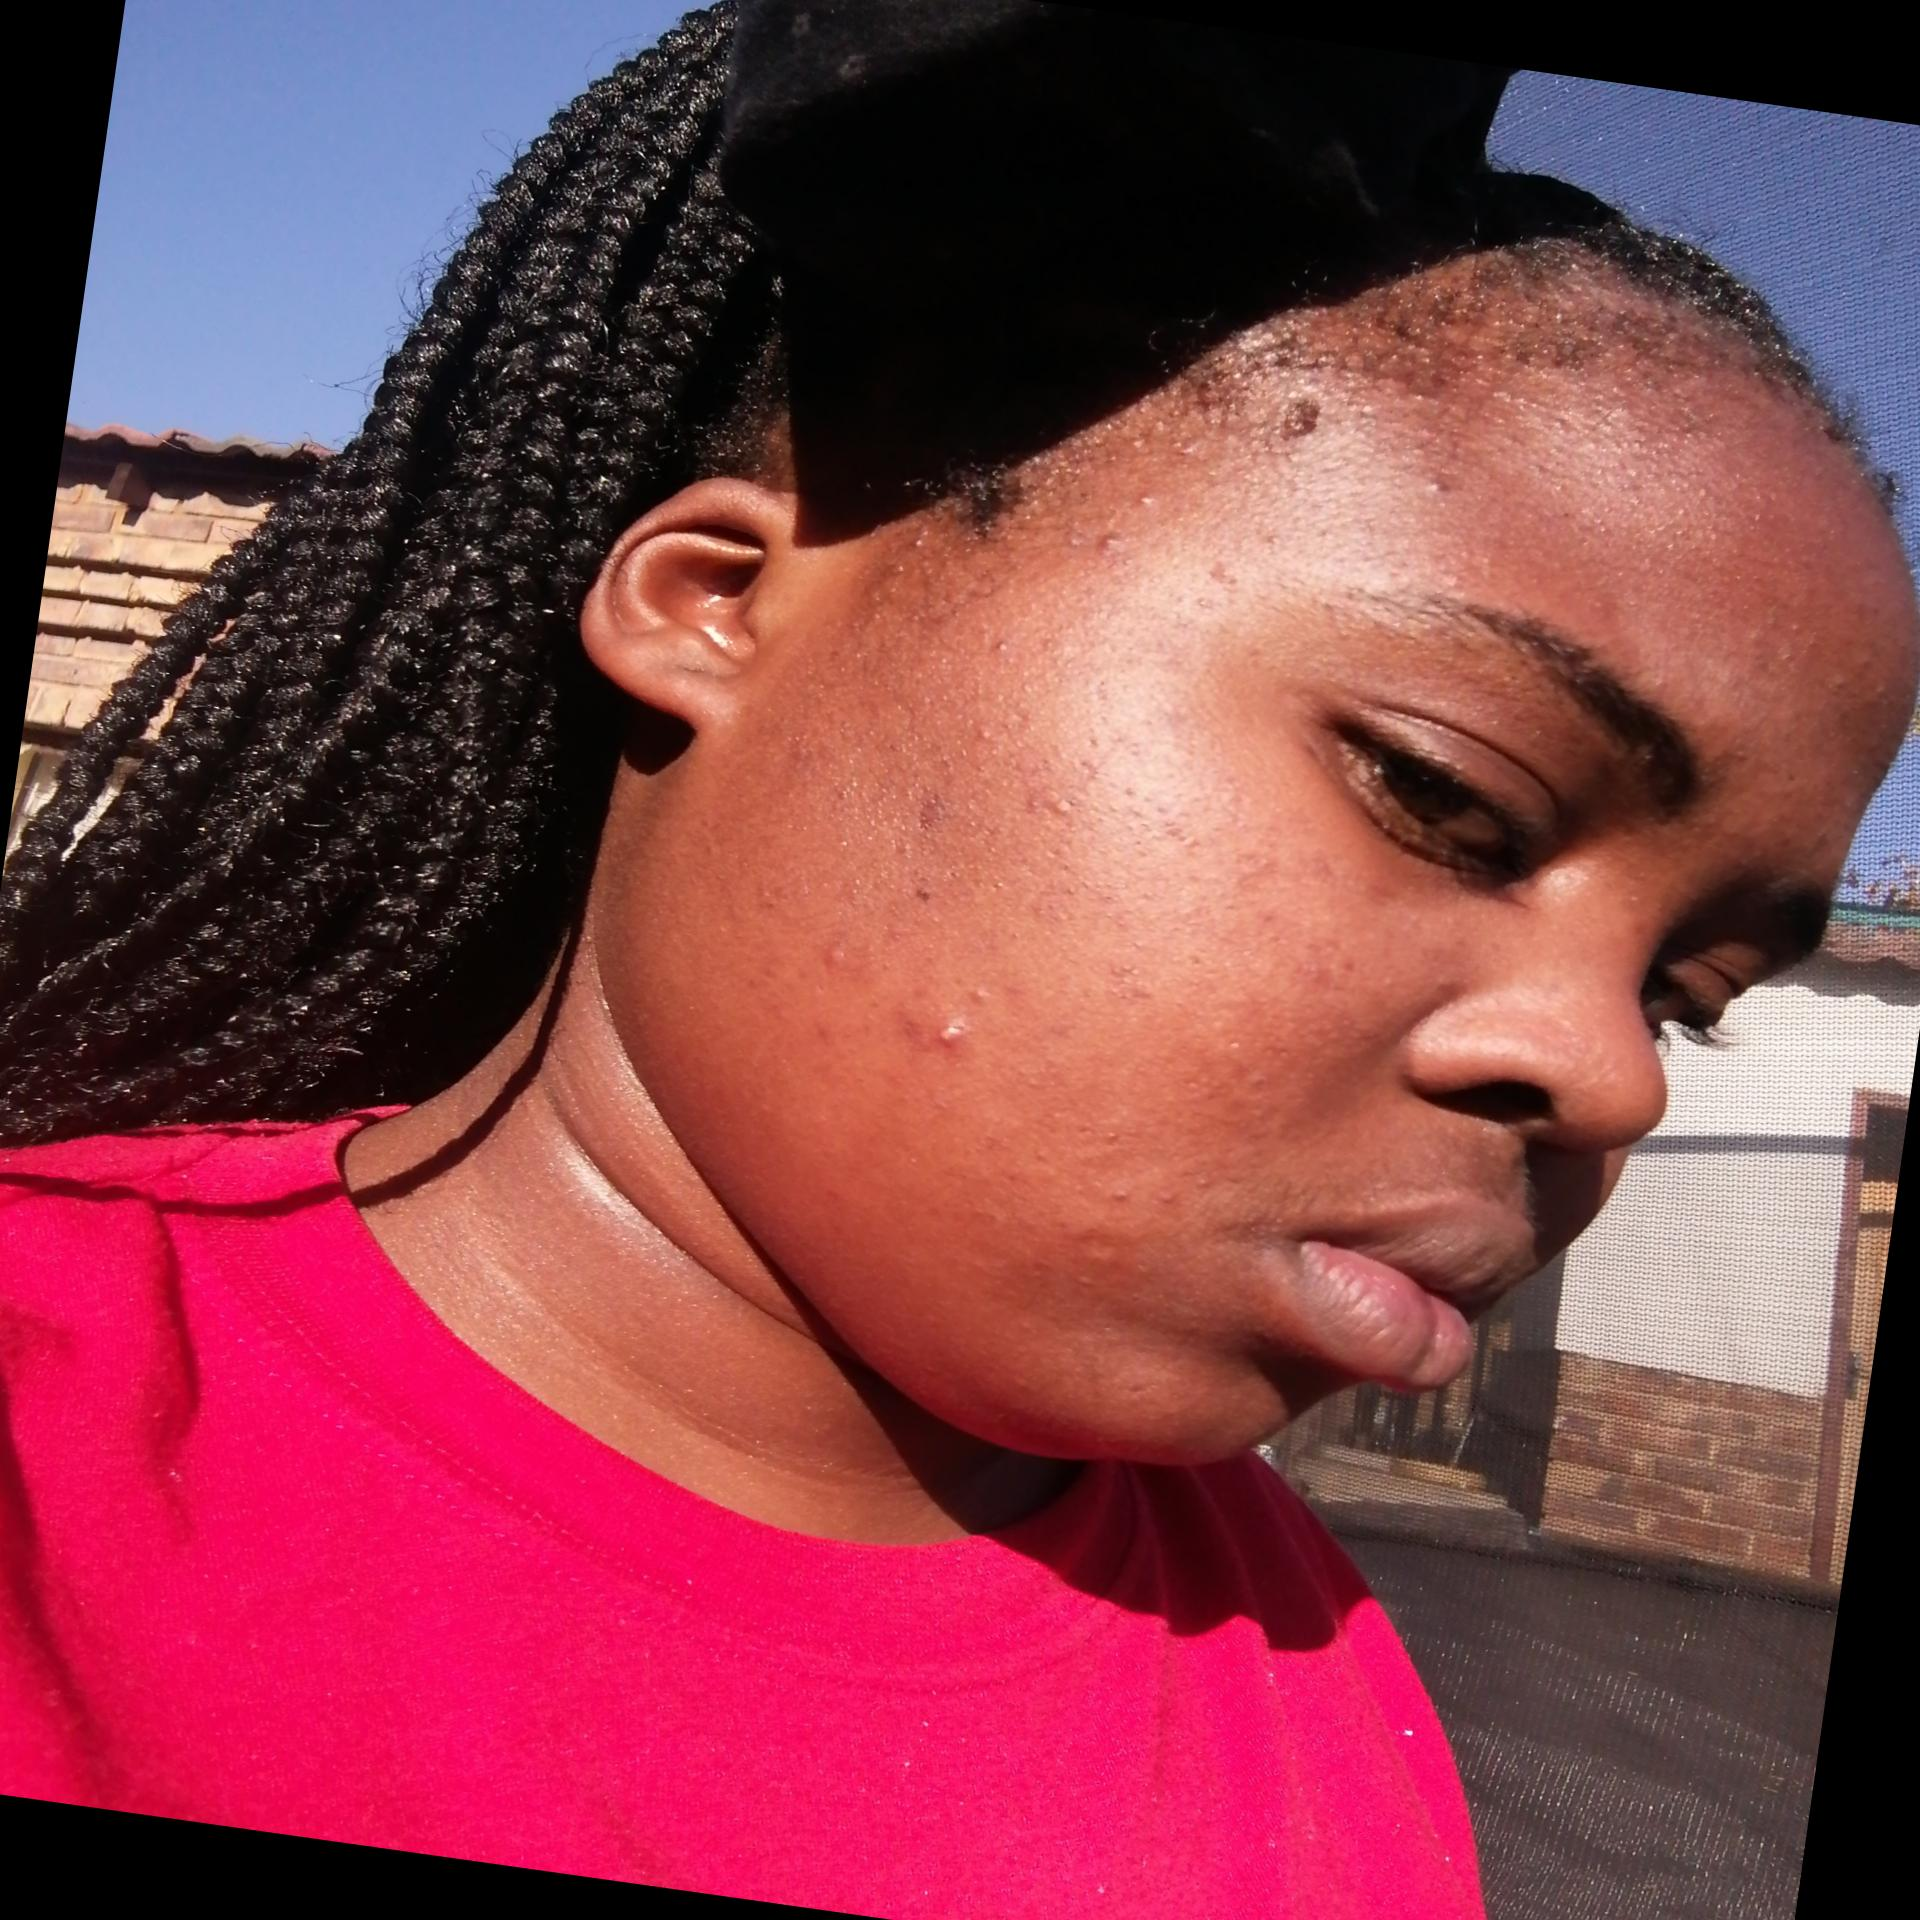Acne: (1823, 645, 1899, 703), (1102, 958, 1166, 1006), (811, 930, 867, 983), (911, 784, 956, 840), (1020, 786, 1088, 821), (928, 1016, 979, 1053), (1197, 556, 1241, 591), (1085, 529, 1132, 561), (1124, 482, 1166, 517), (1180, 1167, 1220, 1199), (1148, 1182, 1185, 1213), (967, 721, 1004, 751), (960, 979, 997, 1009), (1421, 473, 1454, 505), (1182, 591, 1220, 617), (1259, 524, 1292, 550), (1104, 1180, 1136, 1204), (990, 633, 1015, 656)
